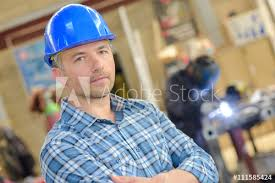Person_wearing_helmet: (44, 0, 118, 74)
